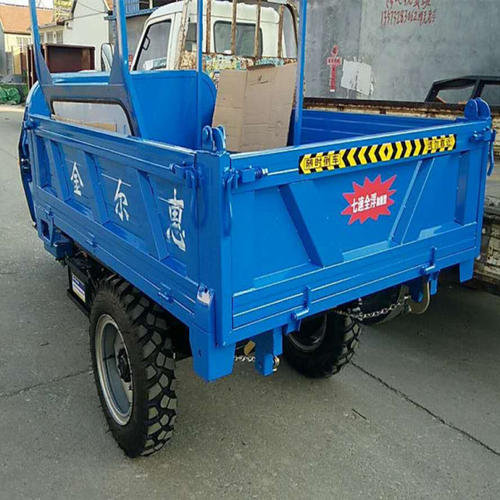tricycle: (8, 15, 495, 448)
